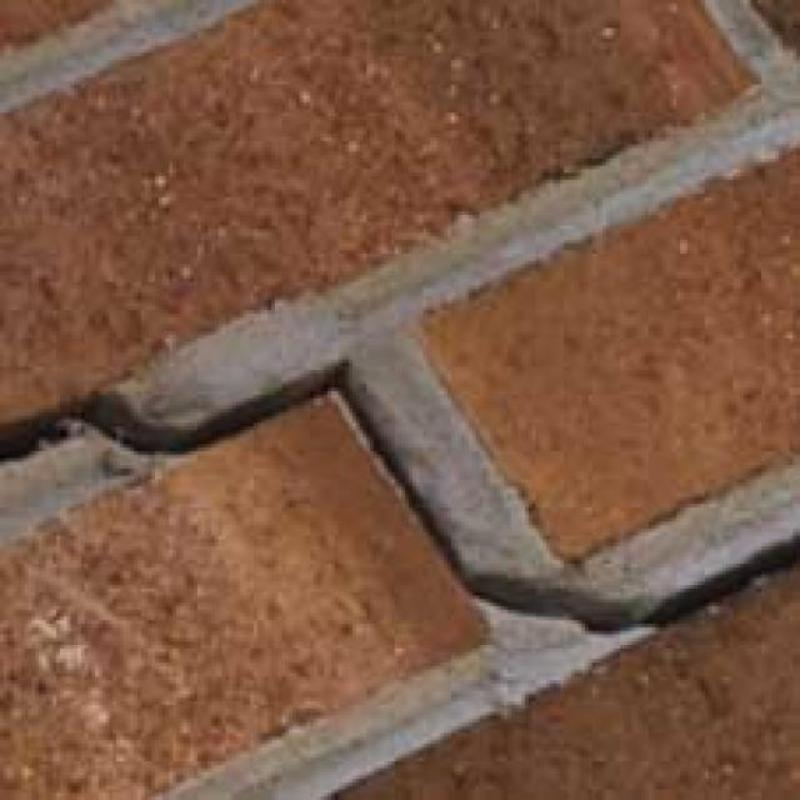pothole: (0, 356, 800, 634)
